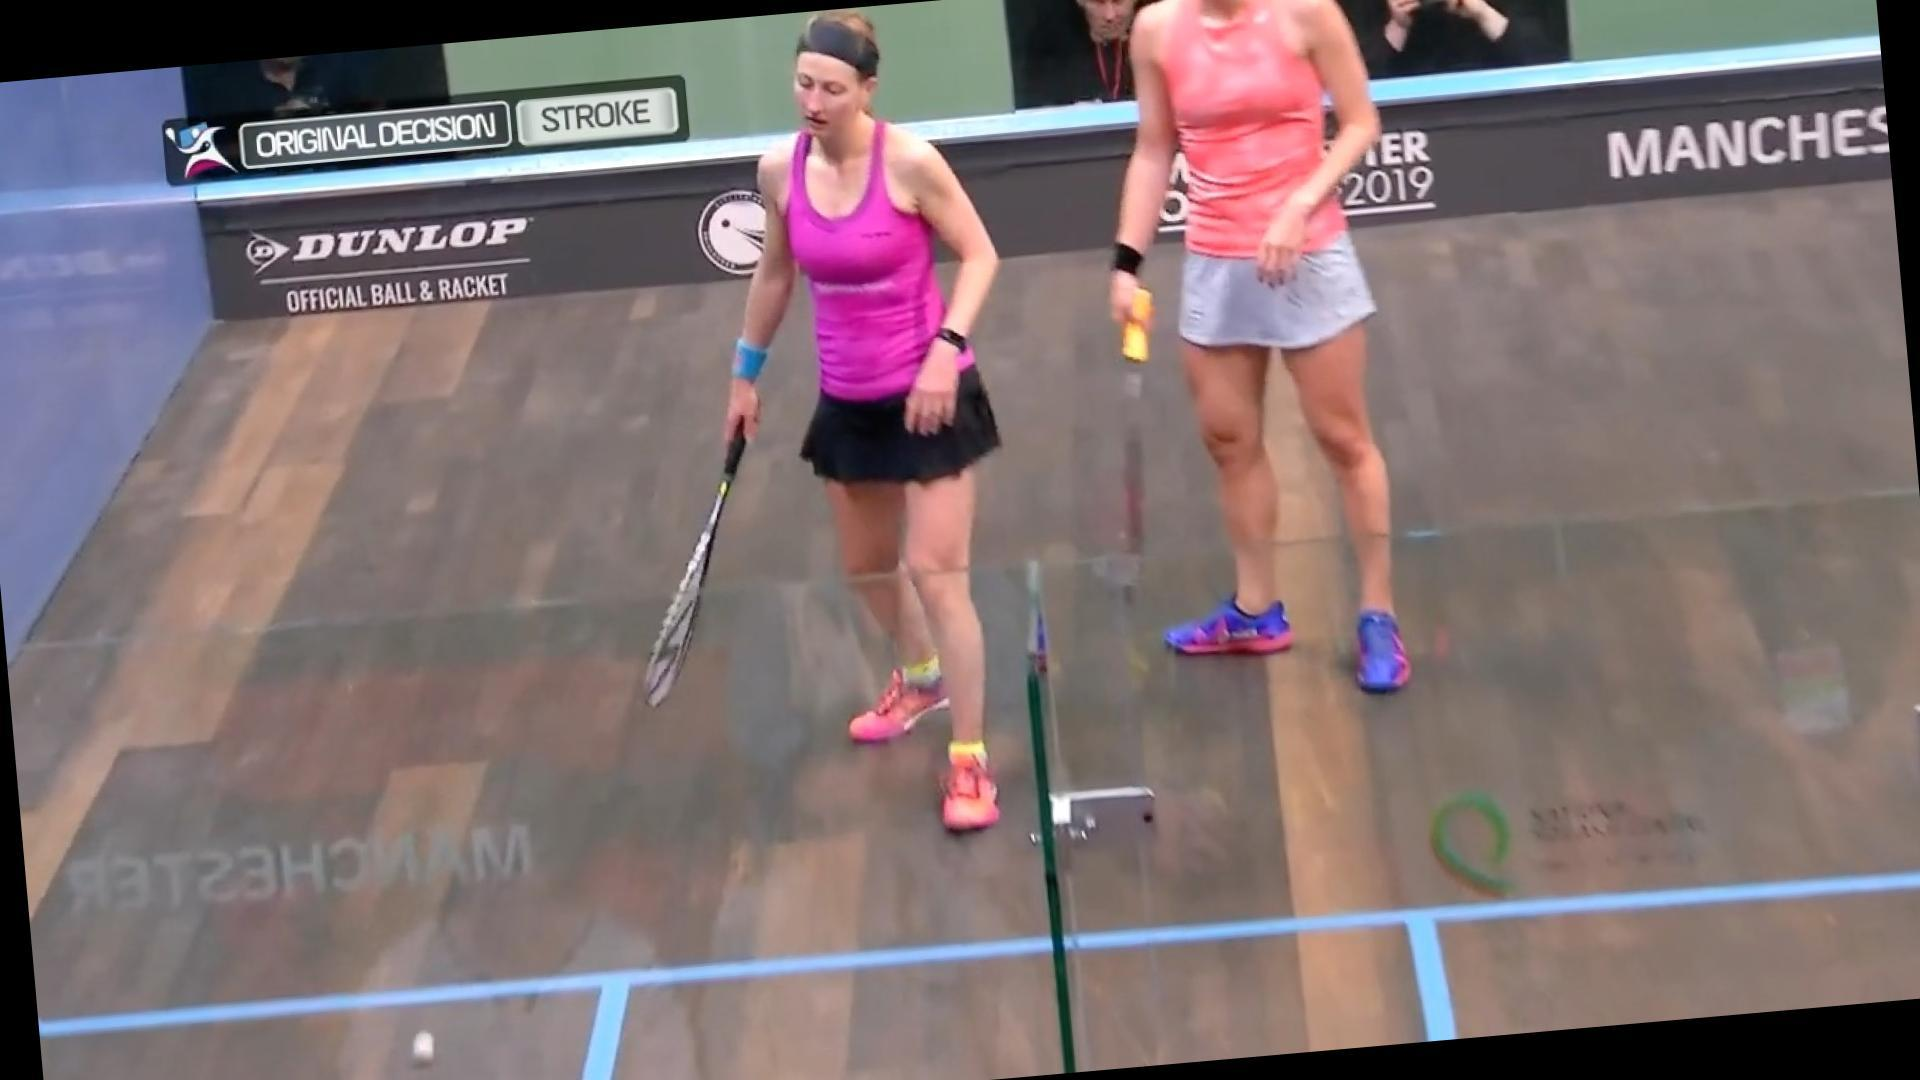Squash-Ball: (382, 1011, 476, 1080)
